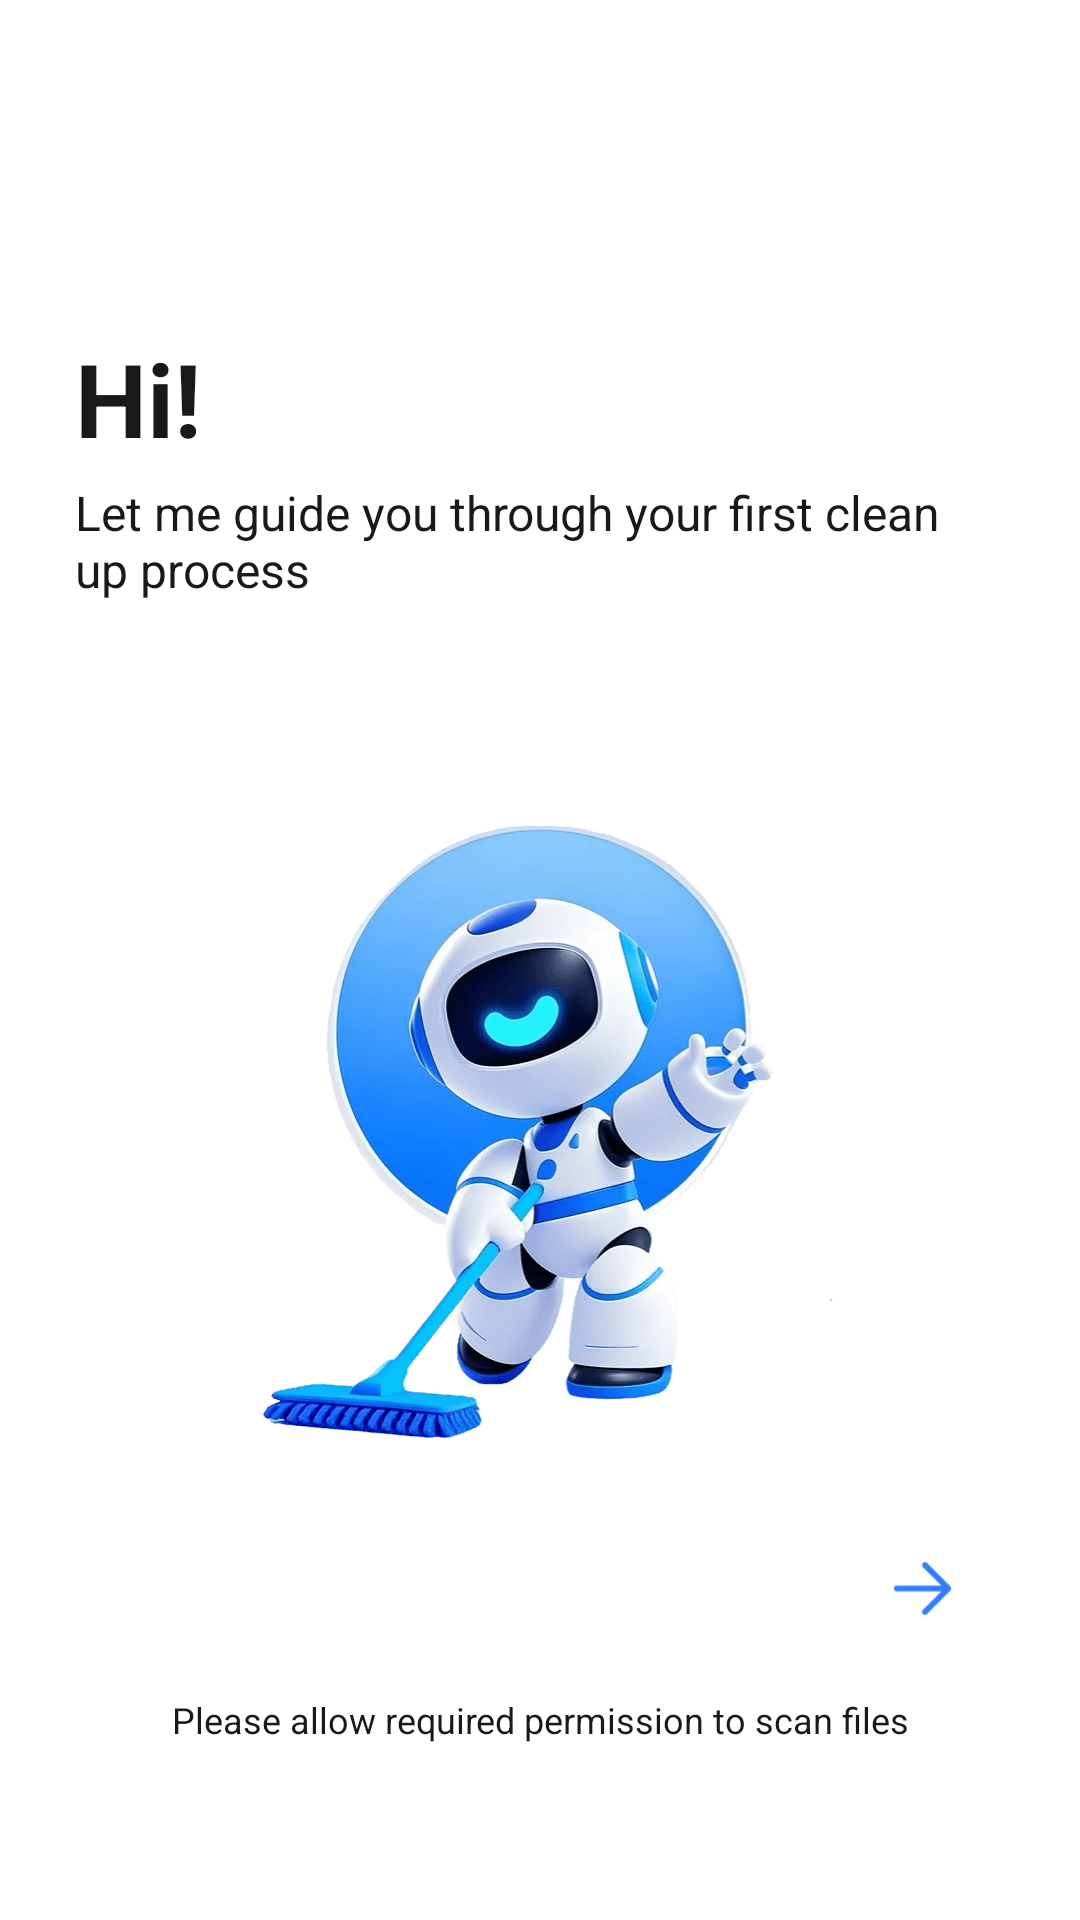

Locate icon controls on the screen. Image size 1080x1920, boxes as (x1, y1, x2, y2).
next: (893, 1562, 952, 1615)
